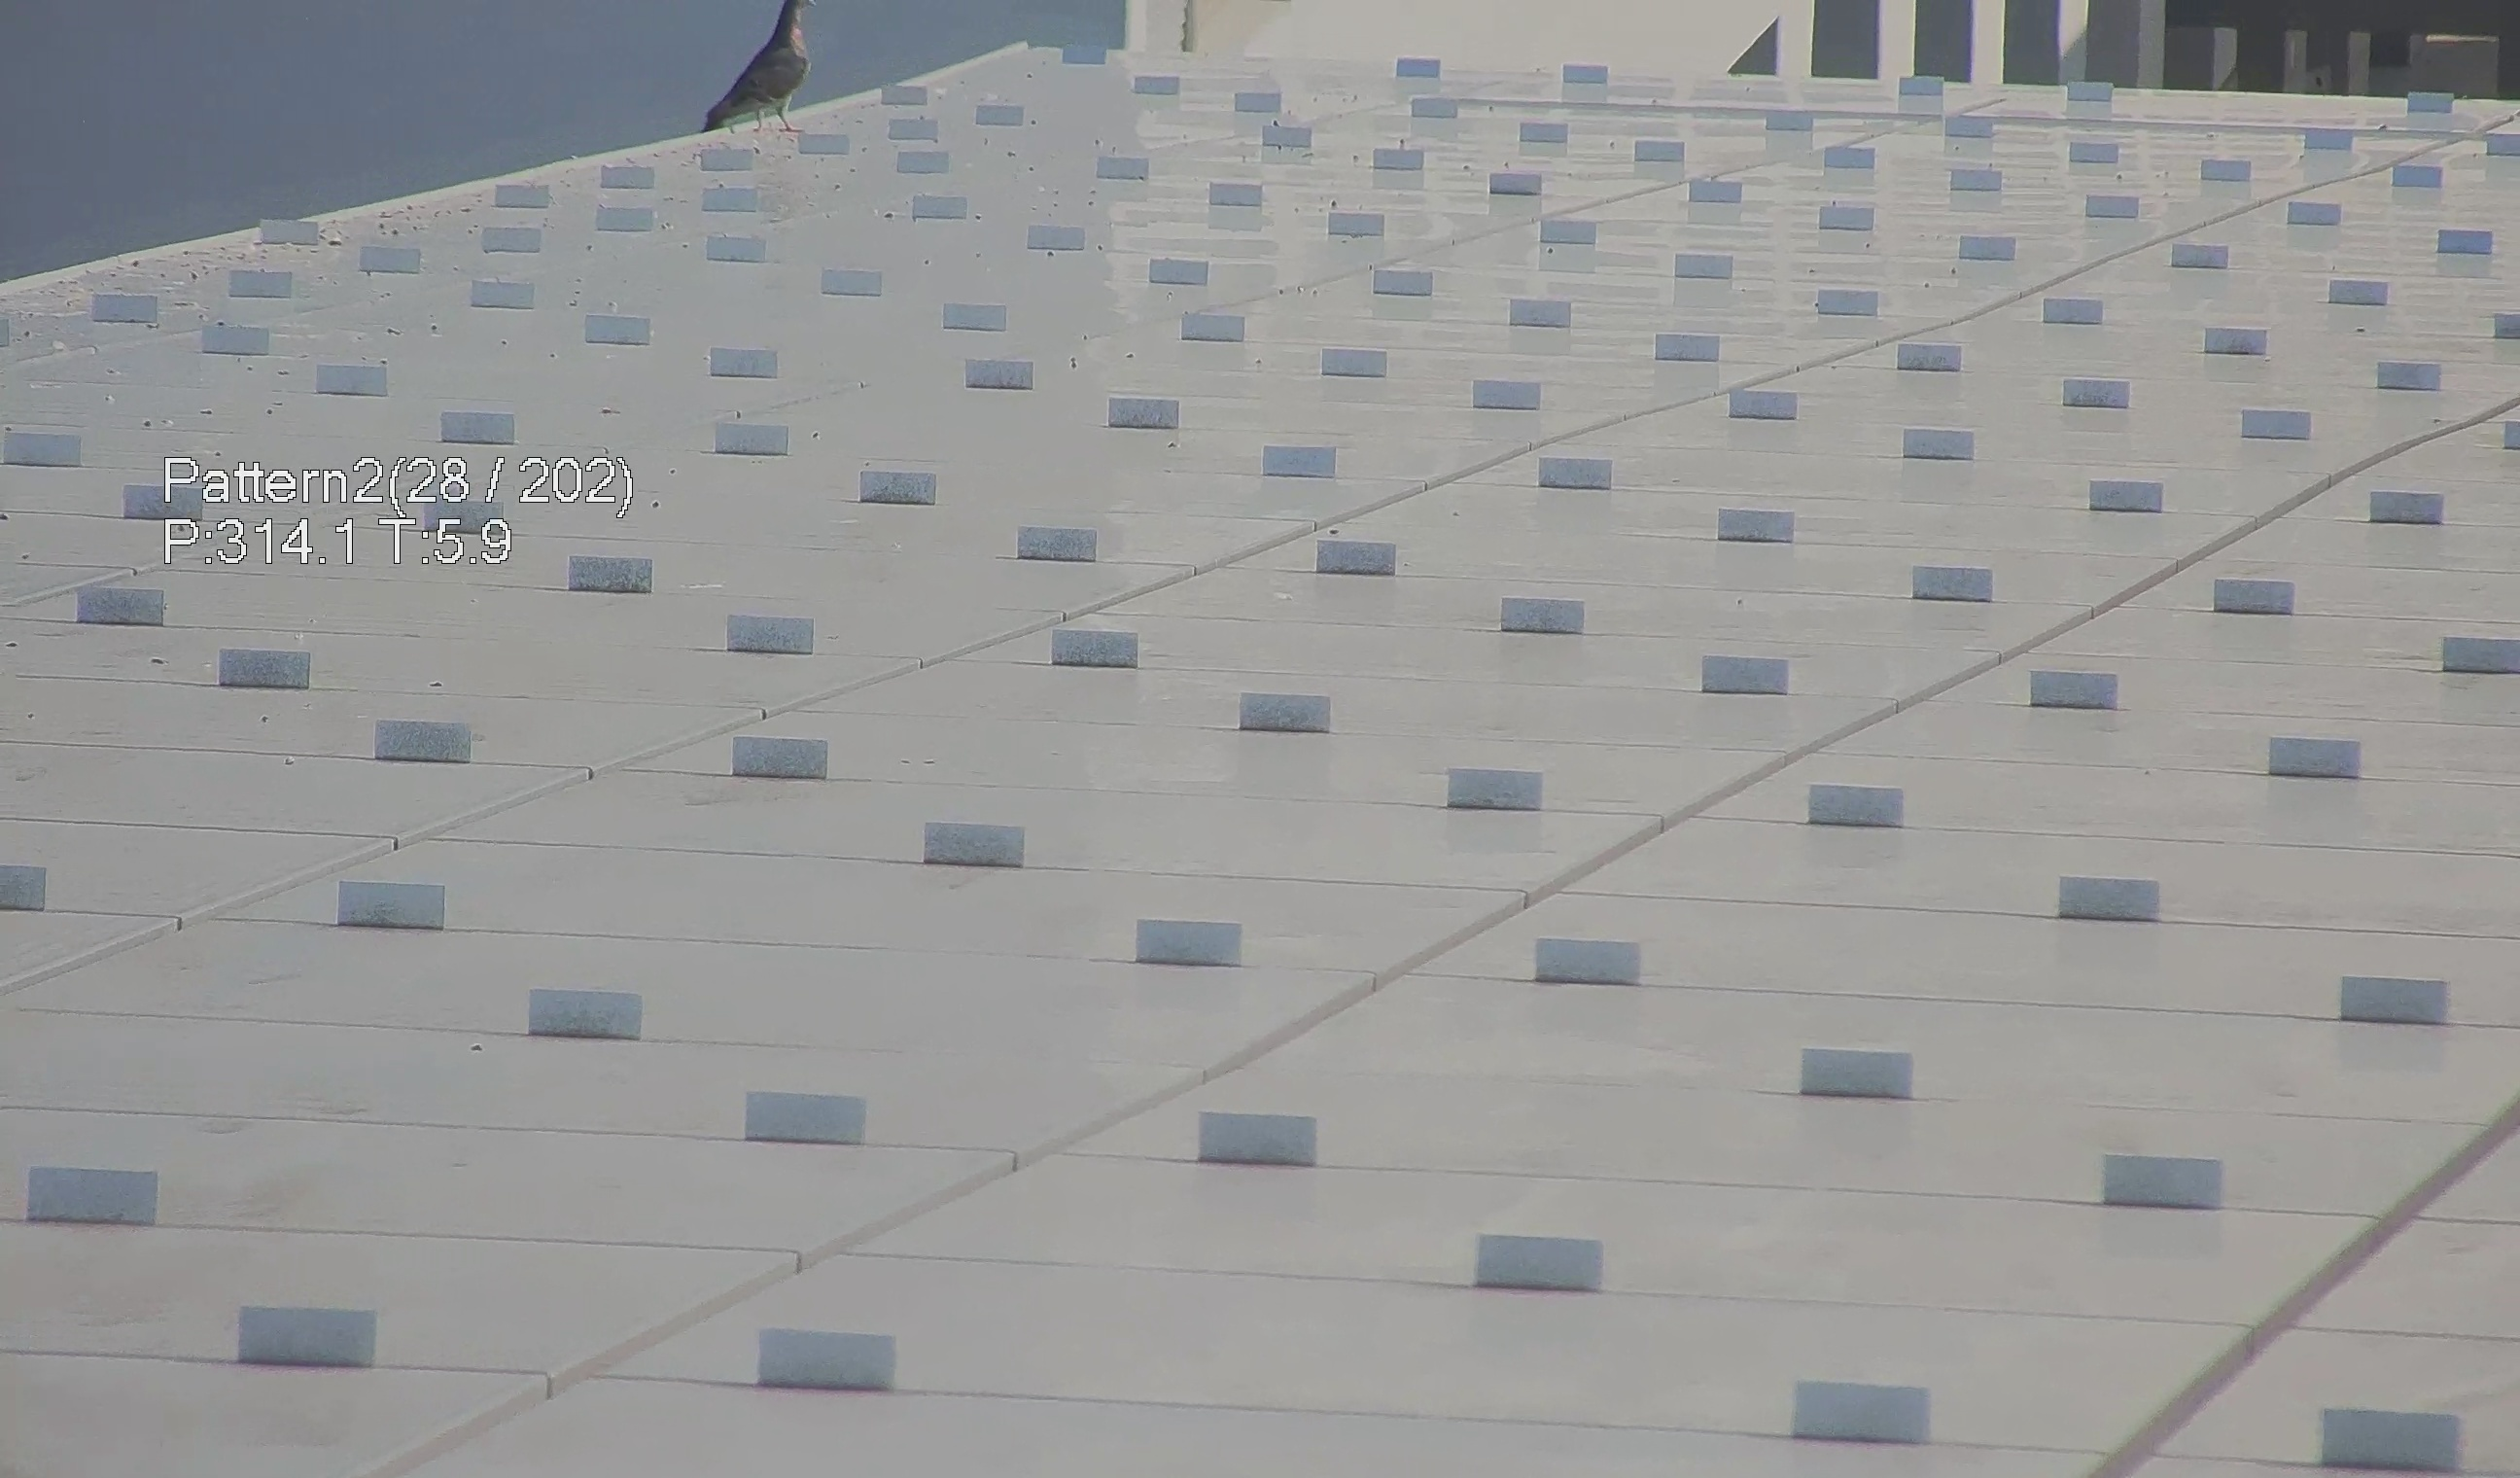Pigeon: (691, 0, 812, 146)
